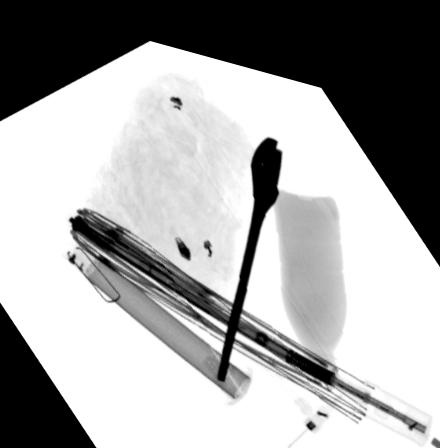Wrench: (214, 119, 283, 371)
